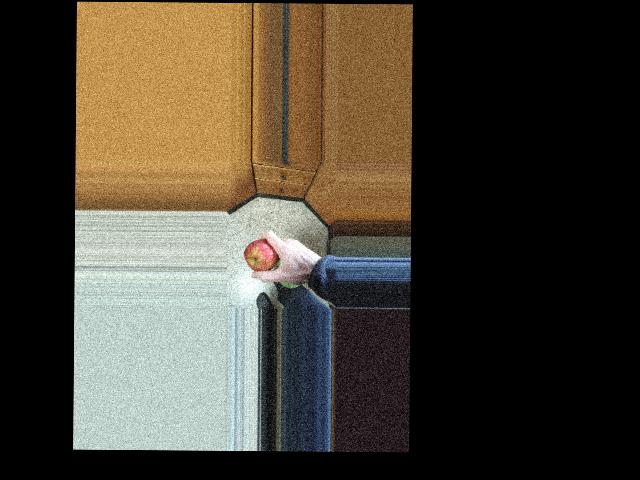apple: (242, 237, 283, 276)
